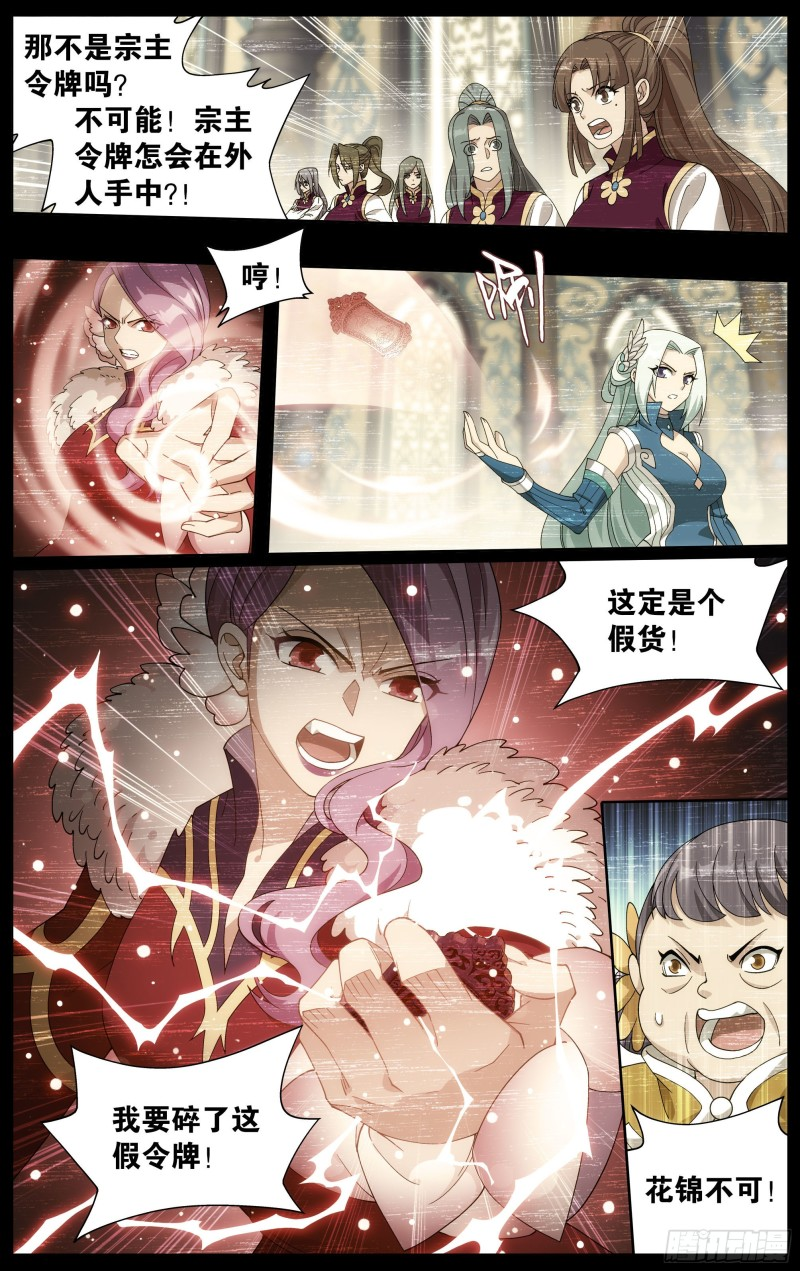boxBomb: (39, 1018, 318, 1240), (507, 553, 795, 709), (36, 92, 315, 221), (615, 1093, 795, 1258), (3, 5, 210, 95), (195, 221, 324, 326)
minBox: (0, 553, 792, 1267), (3, 0, 798, 242), (257, 262, 792, 560), (594, 790, 798, 1264), (0, 242, 273, 565)
